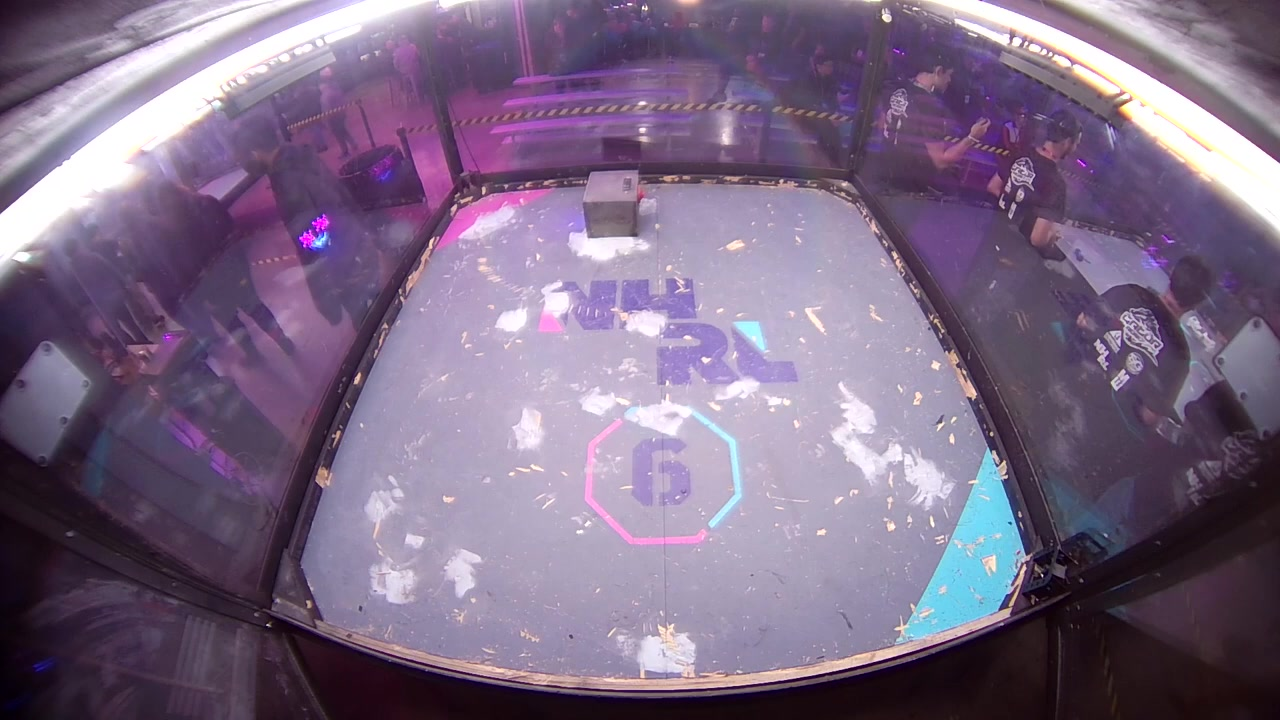housebot: (582, 170, 647, 238)
